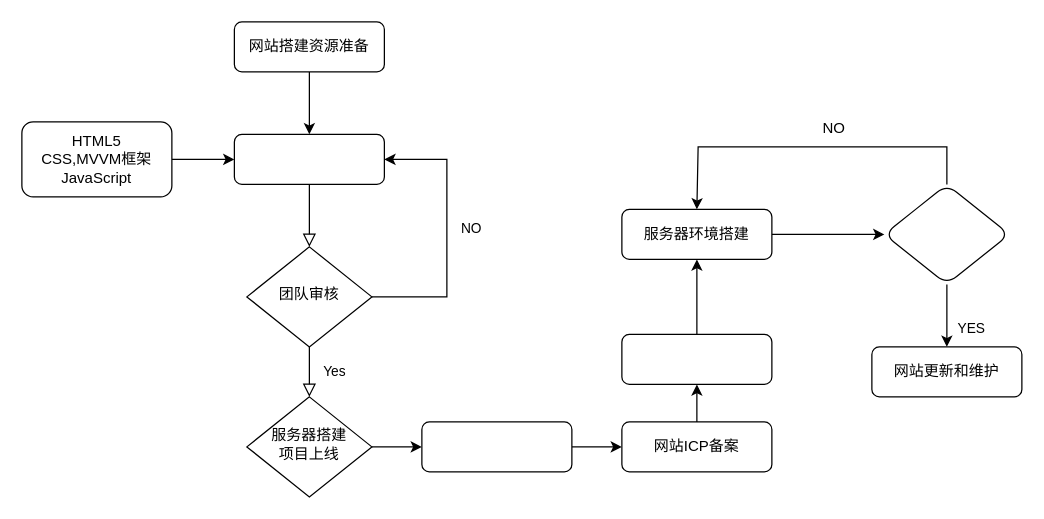
This 1044x519 diagram has some shape labels left out. The shapes that lost their labels are listed below. From the top down, each one's centre as x and y in pixels, then its label:
At (x=308, y=158): "前端代码开发".
At (x=946, y=233): "团队内部 访问测试".
At (x=696, y=358): "网站公安备案".
At (x=496, y=446): "域名购买（腾讯云）".
